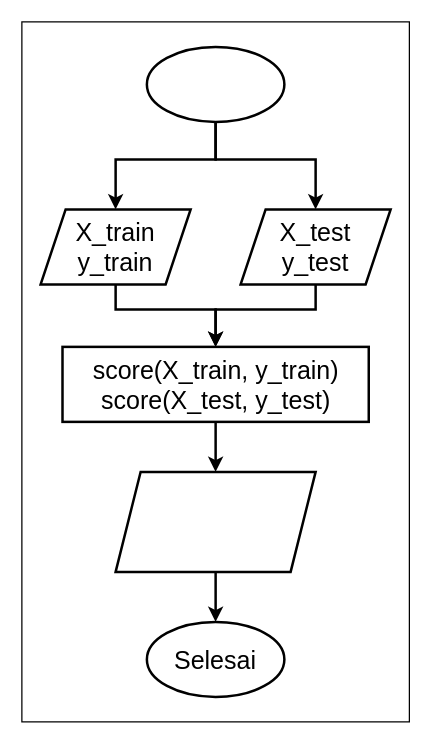
The diagram is 431 pixels wide and 744 high, and some of its shapes have lost their labels. The shapes that lost their labels are listed below. From the top down, each one's centre as x and y in pixels, then its label:
At (215,83): "Mulai".
At (215,521): "Akurasi Presisi Recall".
